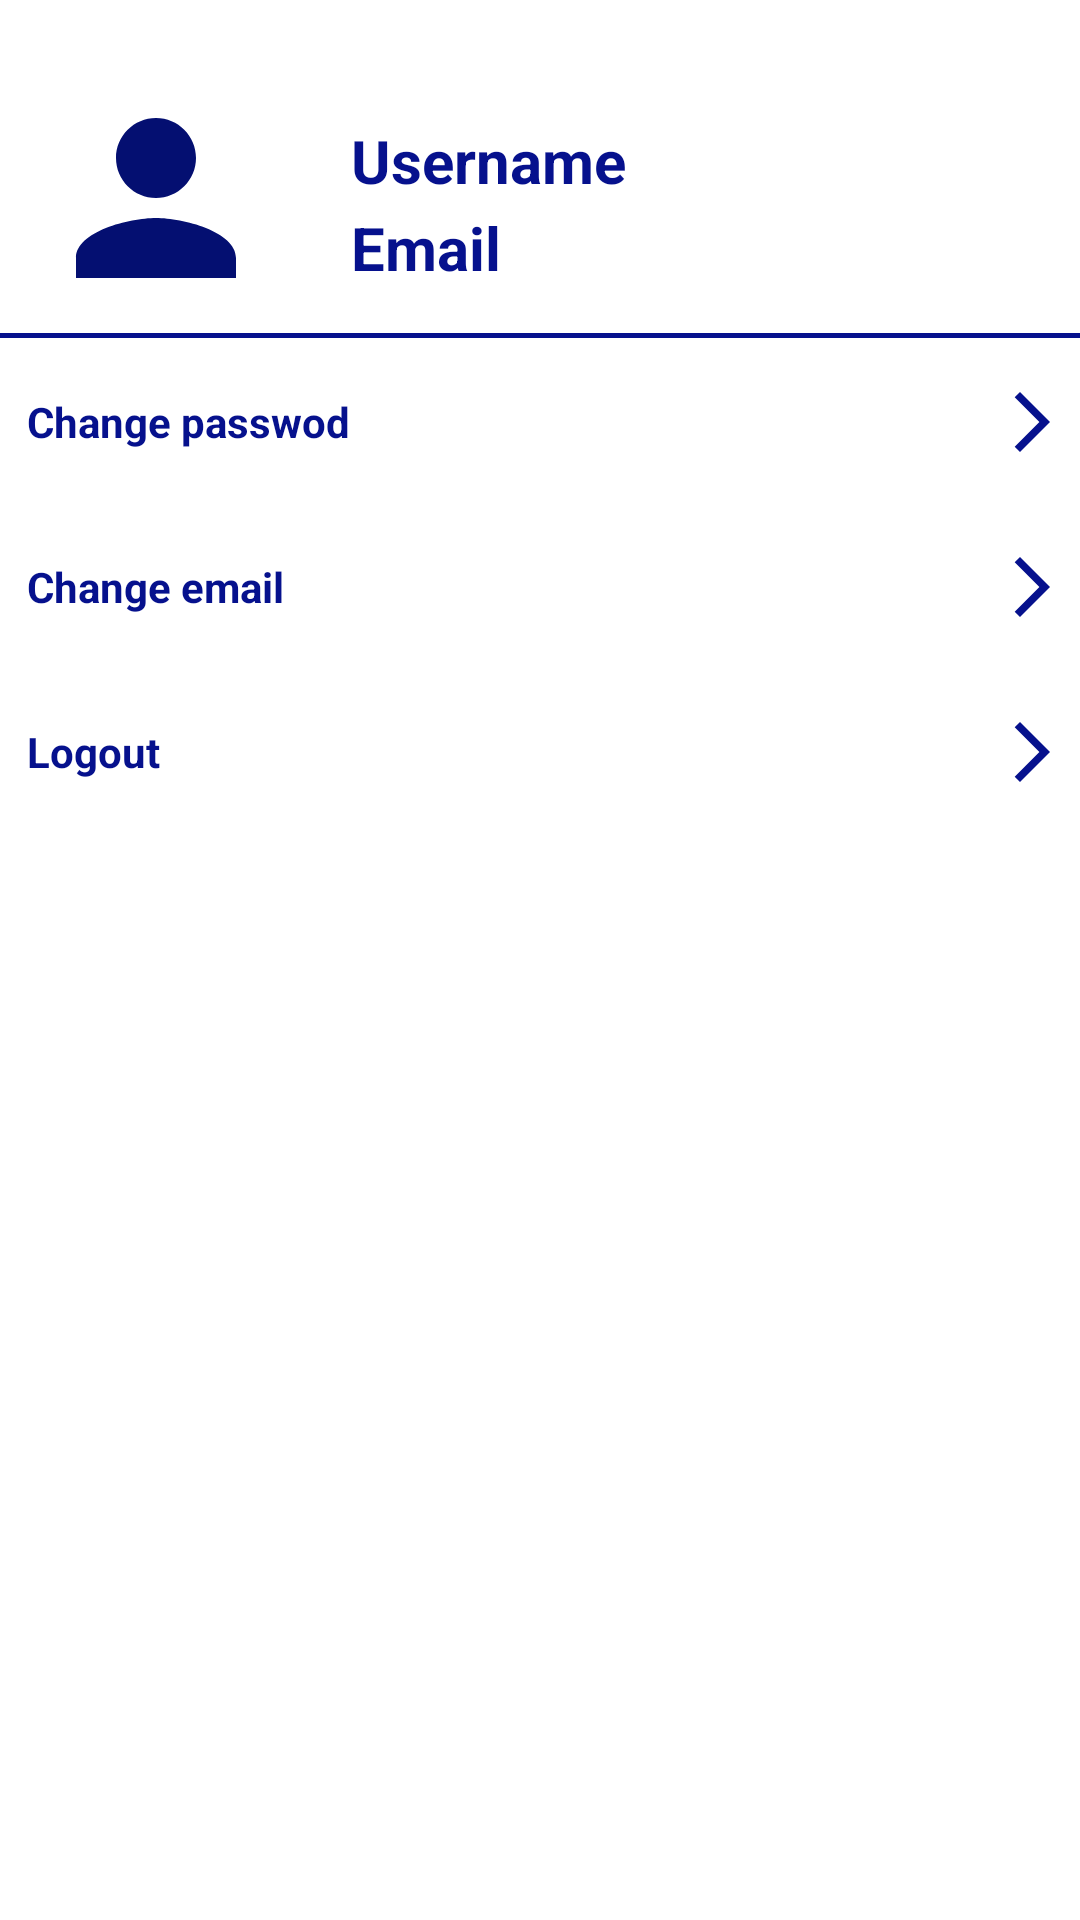

Icons on this 1080w x 1920h Android screen, each with the point to tap as point (x, y):
person: point (156, 198)
